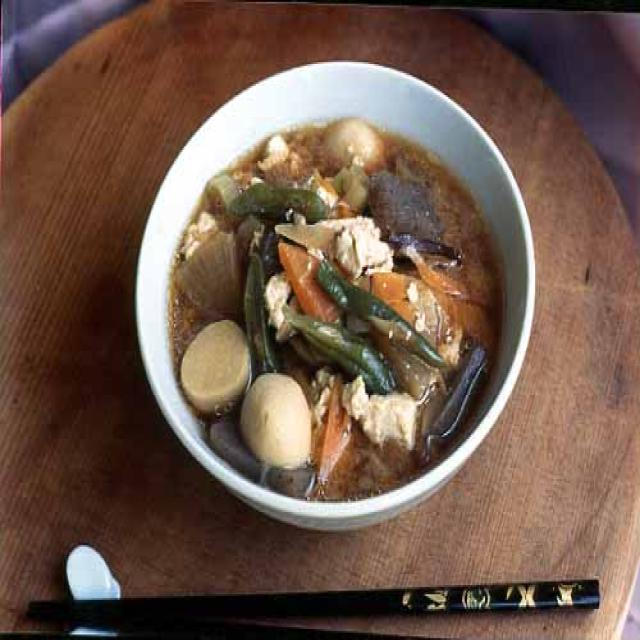蔬菜料理: (132, 39, 539, 506)
